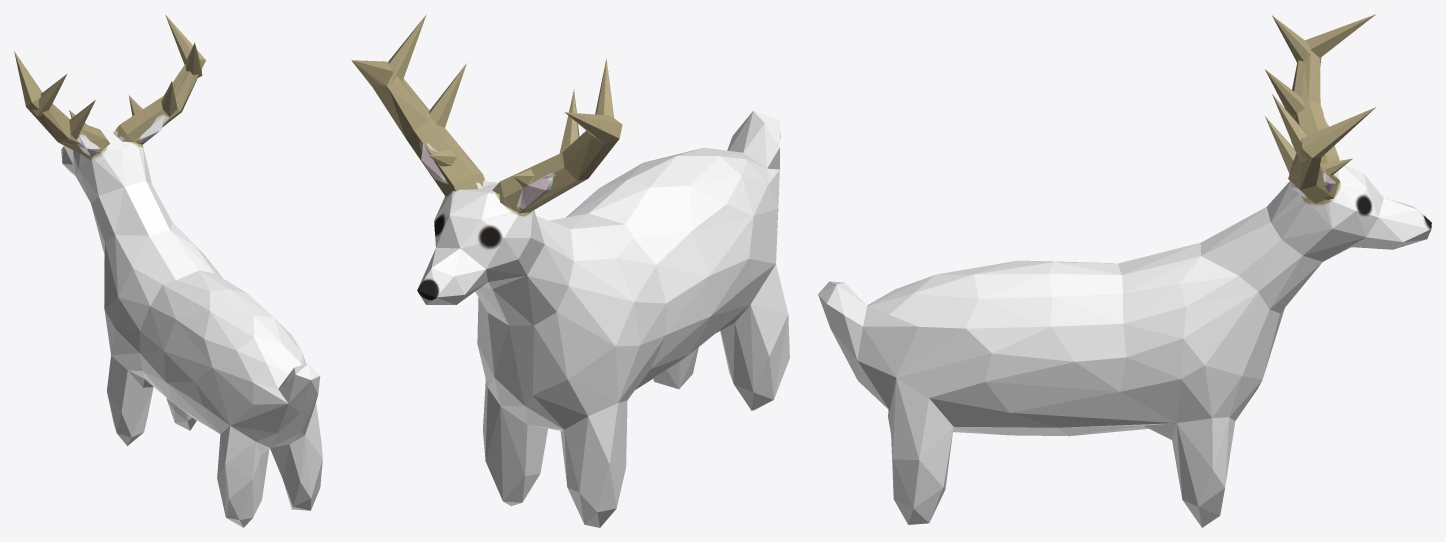
The model's file is animal_deer_stag_blob.obj.
3 views of the same model, side by side, from view 1: azimuth 30°, elevation 25°; view 2: azimuth 150°, elevation 25°; view 3: azimuth 270°, elevation 25° (orthographic). The views are drawn at different scales.
Parts seen in each view (by area): view 1: animal_deer_stag_blob; view 2: animal_deer_stag_blob; view 3: animal_deer_stag_blob.
Boxes of the visible parts, left/top/right/bottom form: animal_deer_stag_blob: left=14, top=15, right=322, bottom=527; animal_deer_stag_blob: left=351, top=14, right=789, bottom=527; animal_deer_stag_blob: left=818, top=14, right=1431, bottom=527.
Size of the model in its own units: 0.5552 by 1.07 by 1.31.
